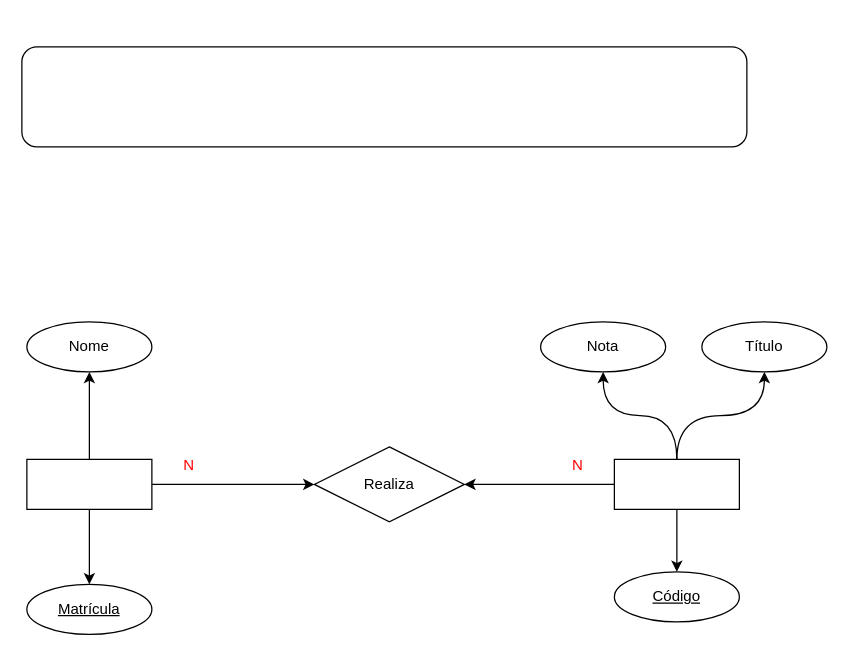
Image size: 849x656. Some labels were removed from this diagram. Here are the shapes that lost their labels. From the top down, the centre of each, then its label:
At point 384,96: "Diagrama - Exercício 1, Slide 2".
At point 89,483: "Aluno".
At point 676,483: "Trabalhos".
